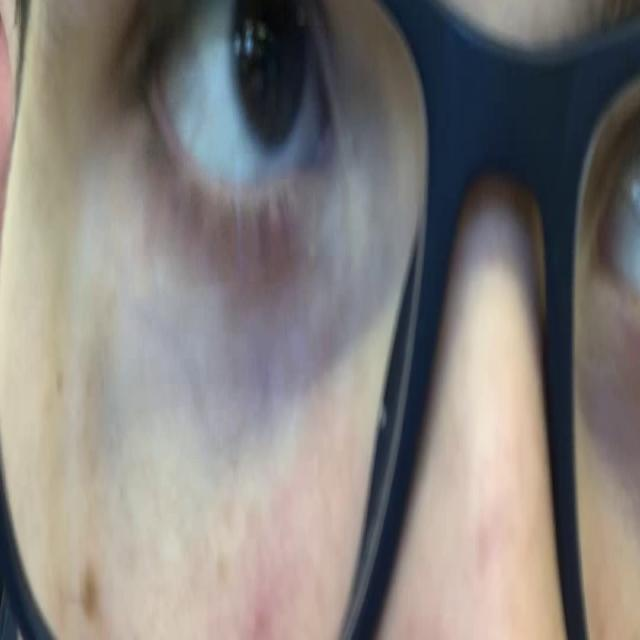eye: (129, 0, 352, 278)
gaze: (229, 0, 312, 156)
